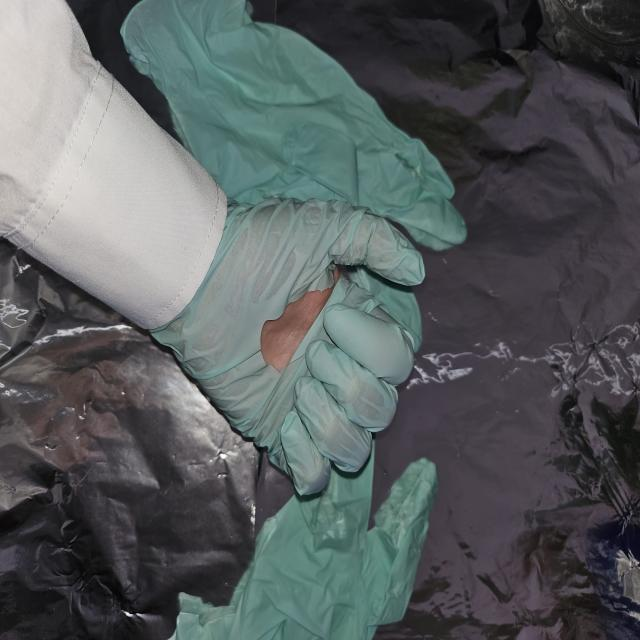gloves_damaged: (152, 194, 426, 498)
